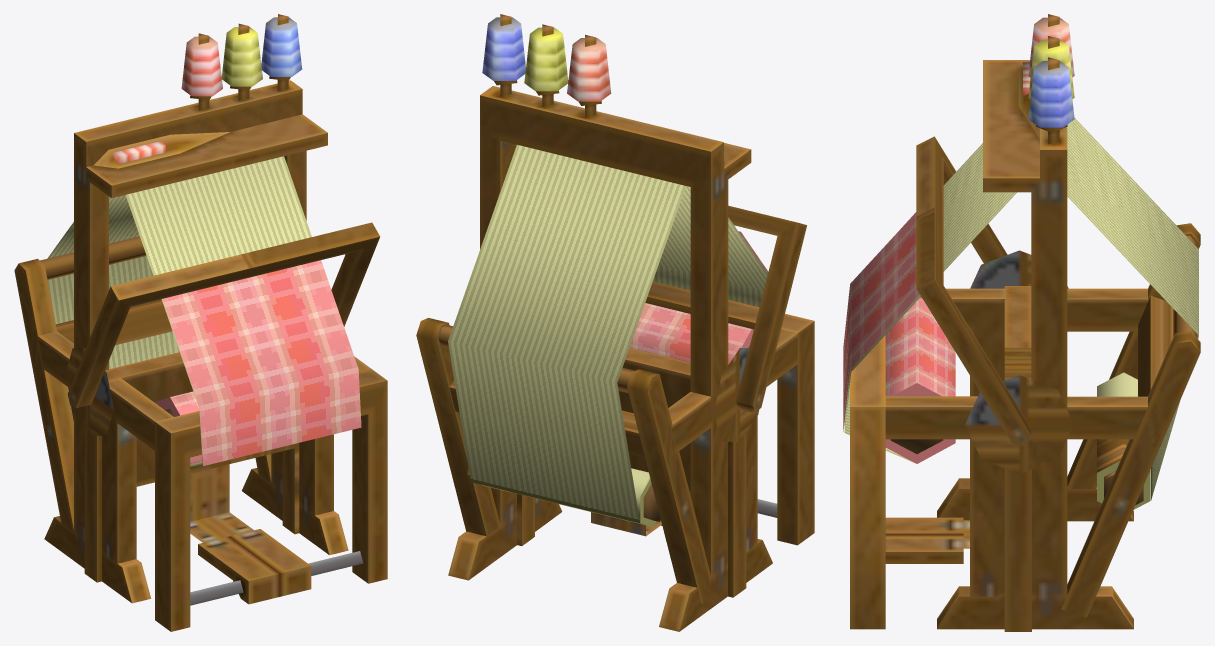
The model's file is rmk_oth_loom.dae.
3 renders of one model, left to right at view 1: azimuth 30°, elevation 25°; view 2: azimuth 150°, elevation 25°; view 3: azimuth 270°, elevation 25°, orthographic. The views are drawn at different scales.
Visible parts, largest first — view 1: rmk_oth_loom; view 2: rmk_oth_loom; view 3: rmk_oth_loom.
Boxes of the visible parts, x1,y1,x2,y2 form: rmk_oth_loom: (14, 14, 387, 631); rmk_oth_loom: (416, 14, 814, 631); rmk_oth_loom: (843, 14, 1200, 631).
Size of the model in its own units: 29.27 by 53.52 by 30.93.
3 materials, 3 textured.
